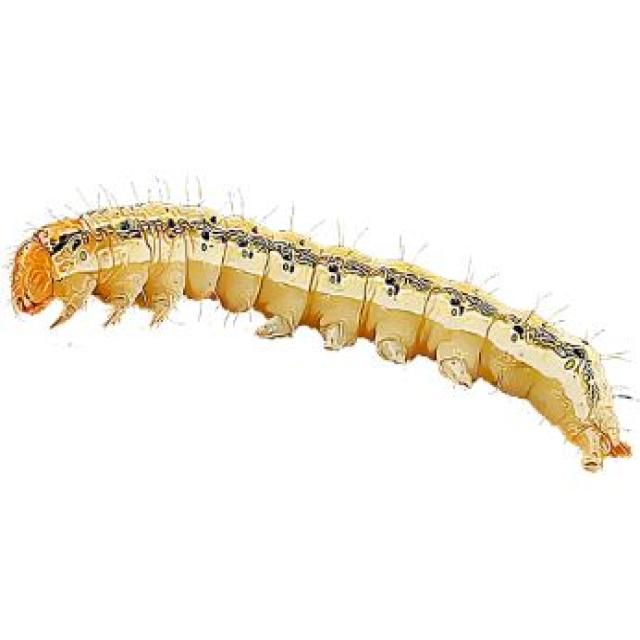worm: (9, 189, 634, 474)
